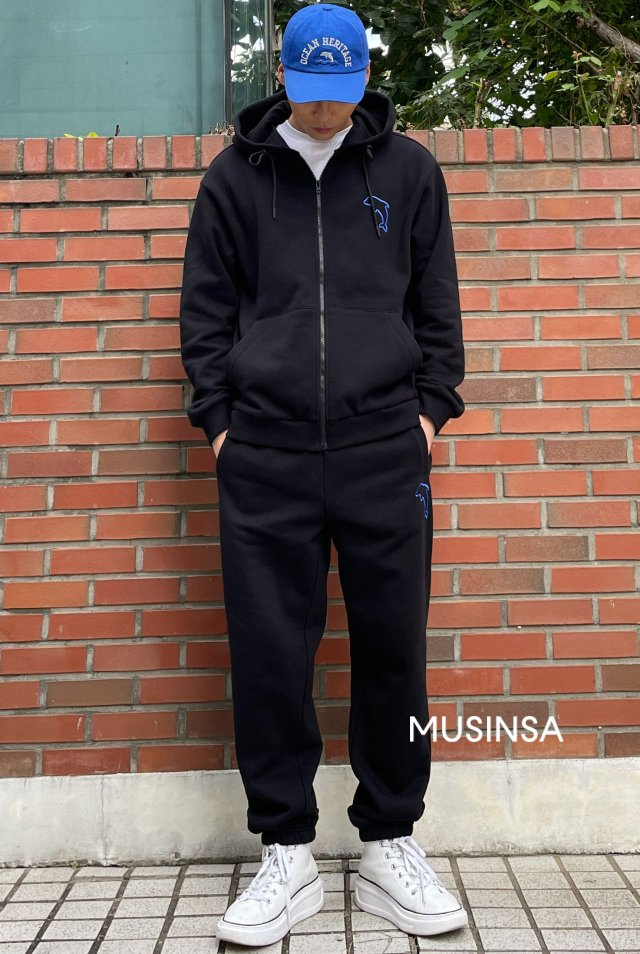Cap: (276, 3, 370, 104)
Outer: (185, 84, 472, 442)
Shoes: (214, 838, 473, 950)
Training pants: (212, 427, 438, 846)
